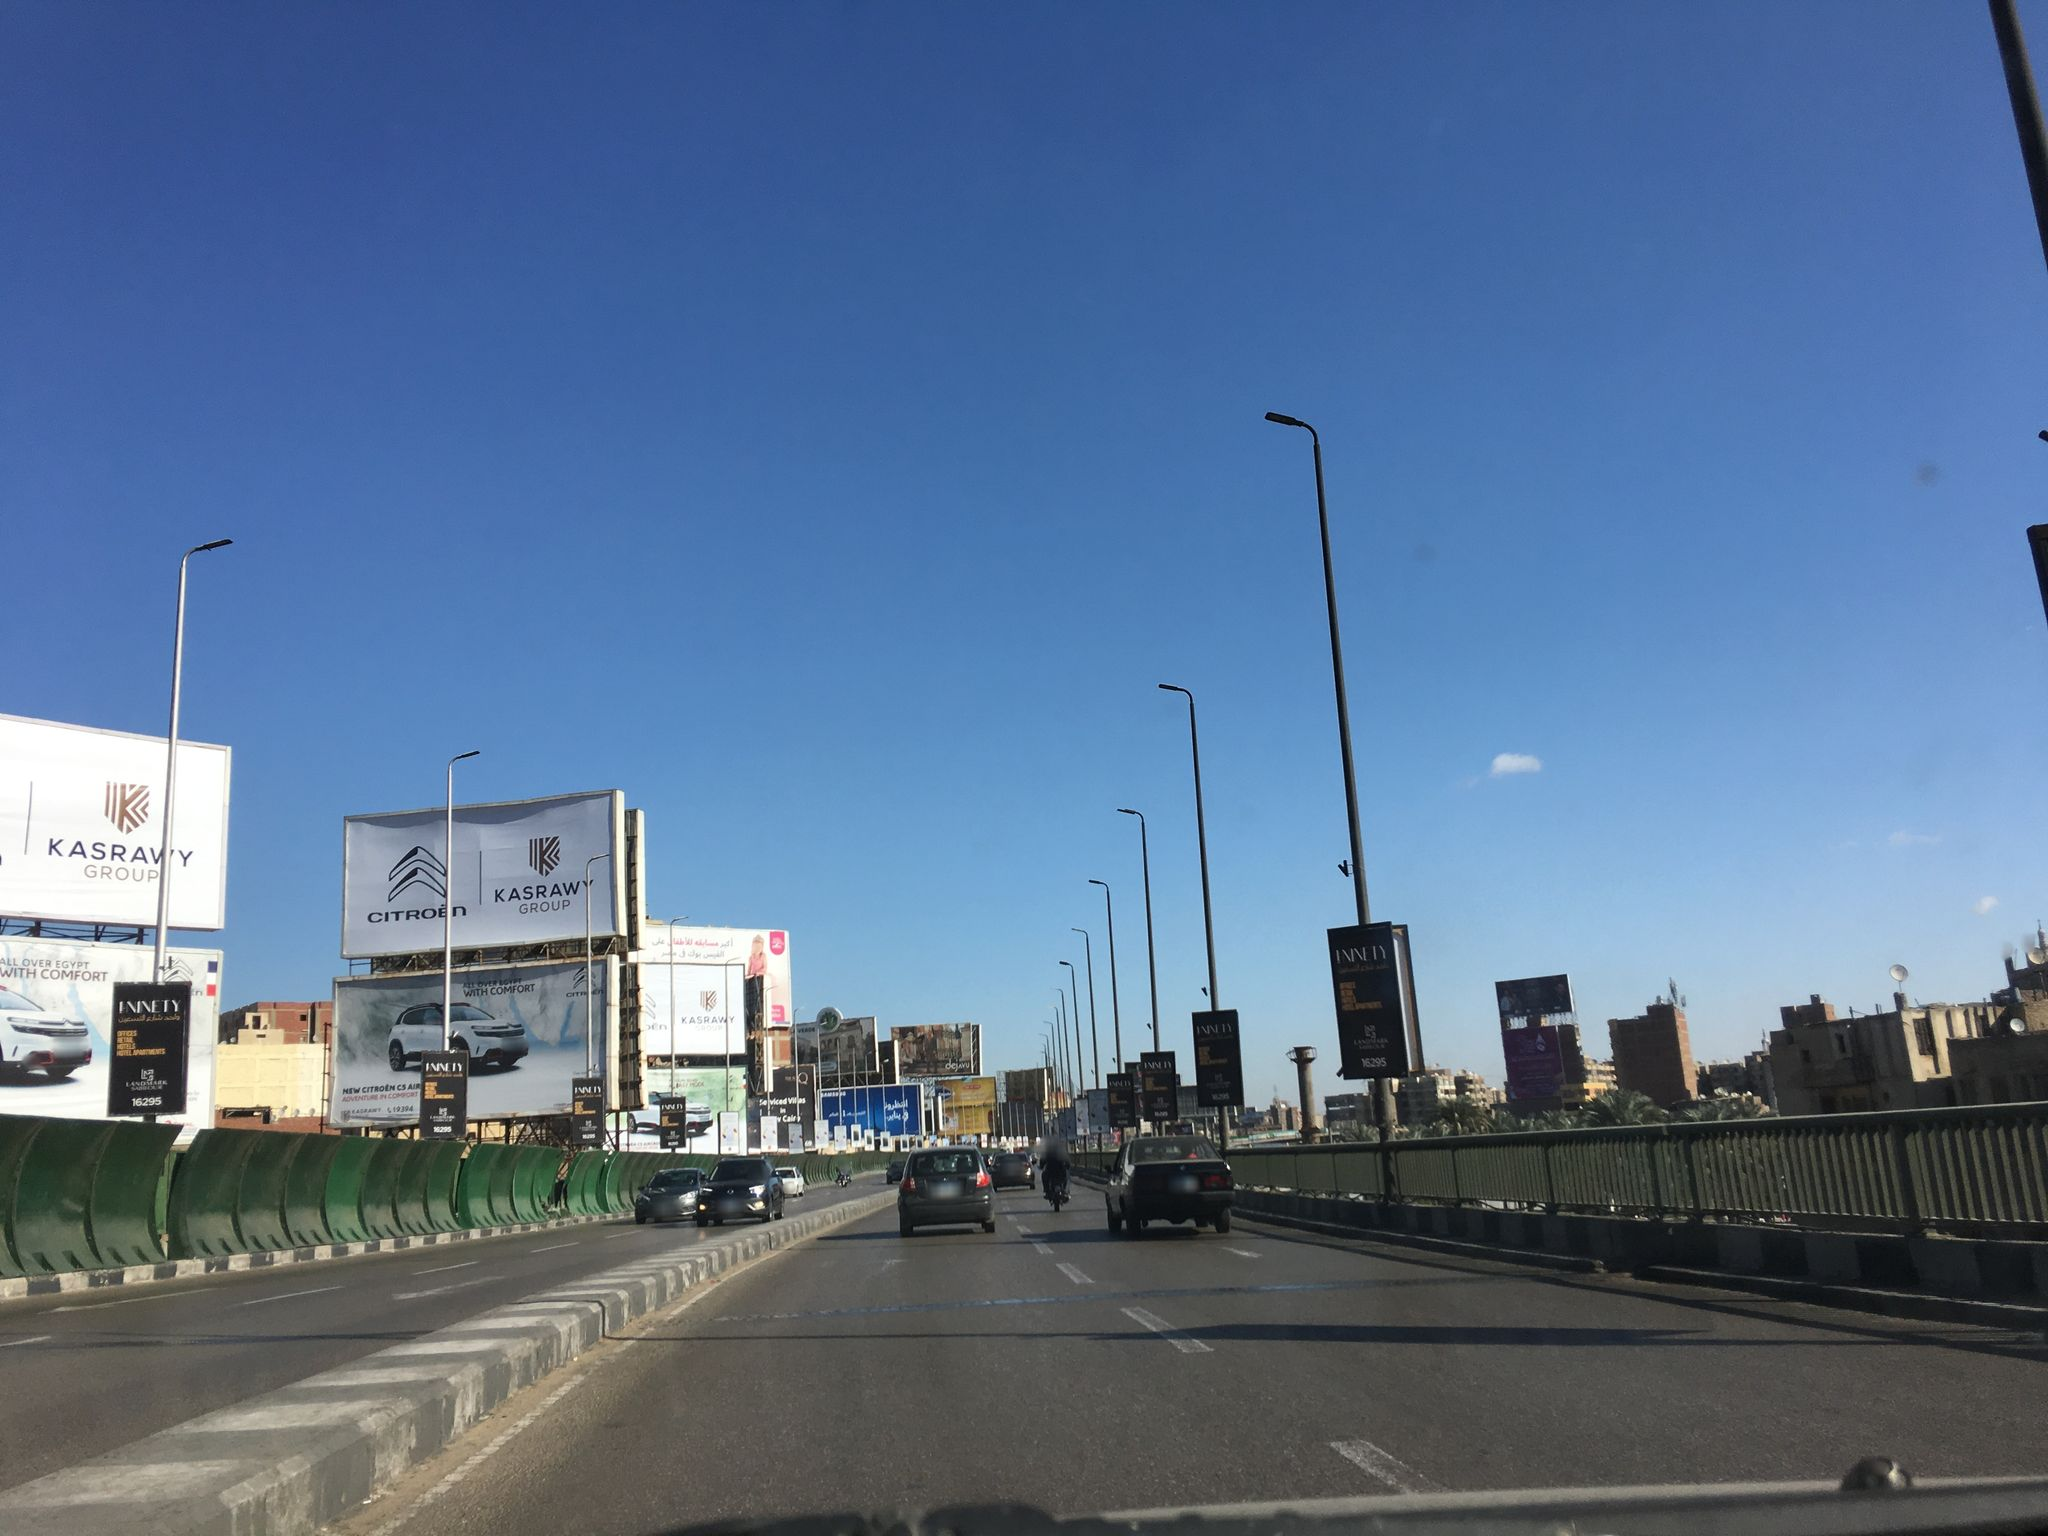car: (1105, 1134, 1235, 1236), (697, 1155, 784, 1225), (634, 1167, 706, 1225), (990, 1150, 1035, 1191), (774, 1167, 805, 1197), (885, 1158, 906, 1184)
motorcycle: (1035, 1160, 1072, 1210), (835, 1167, 851, 1187)
